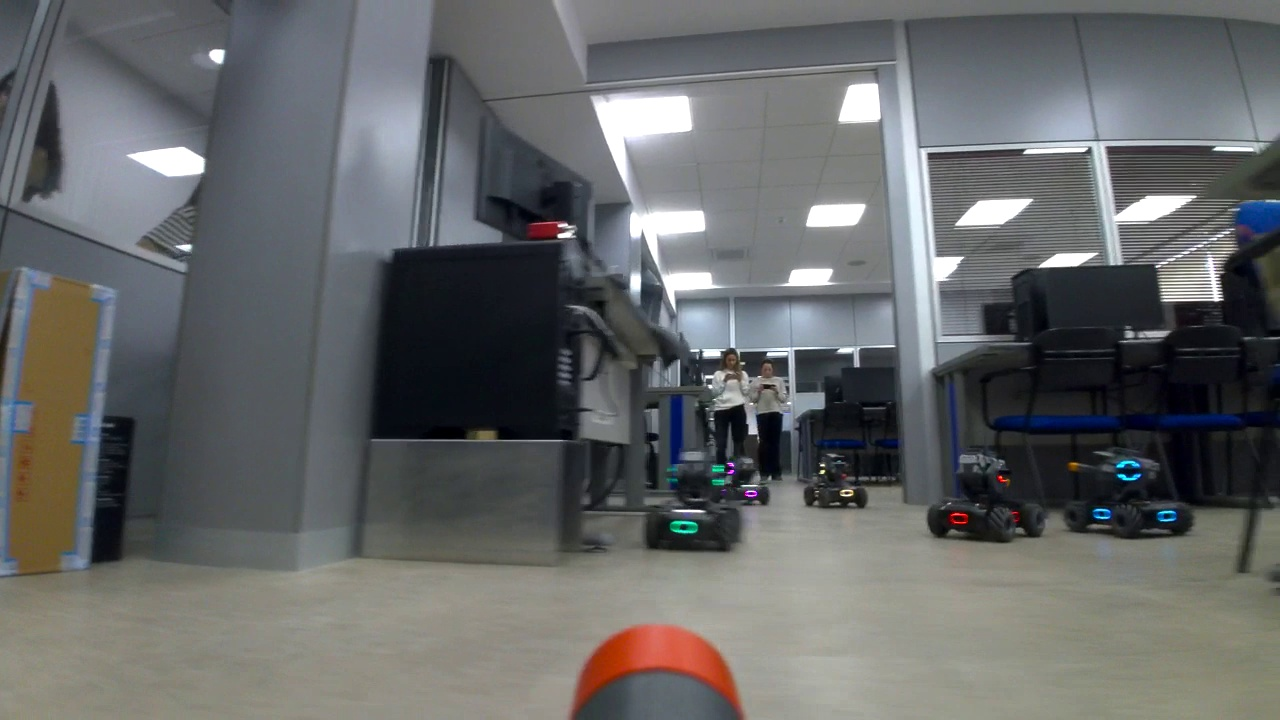robot: (1062, 446, 1196, 540), (925, 448, 1047, 546), (640, 451, 742, 556), (801, 454, 868, 510), (722, 463, 772, 508)
